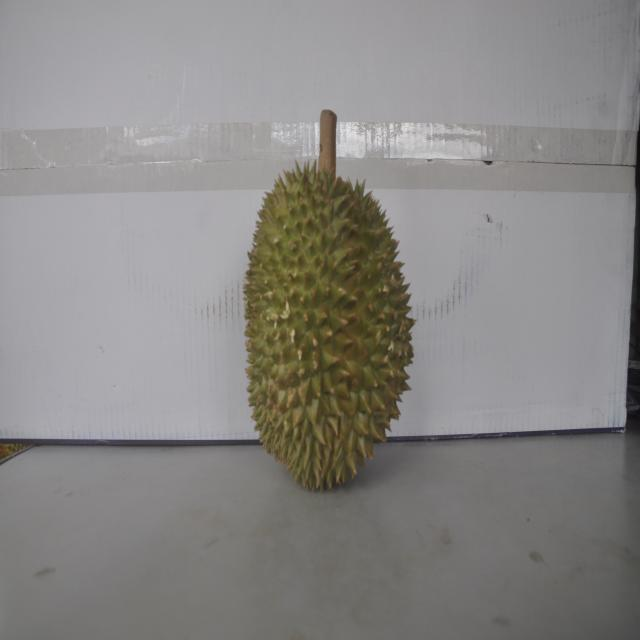mature: (238, 154, 412, 491)
